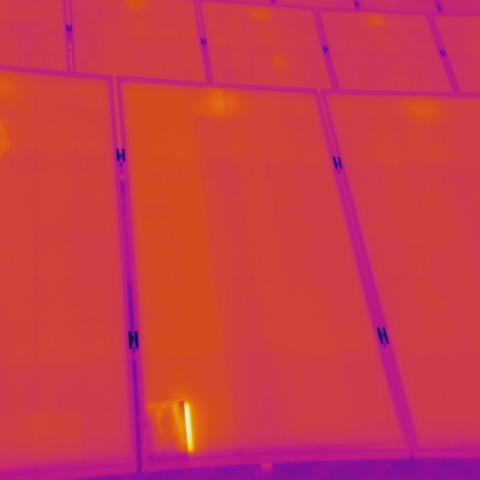fault: (143, 396, 198, 458)
